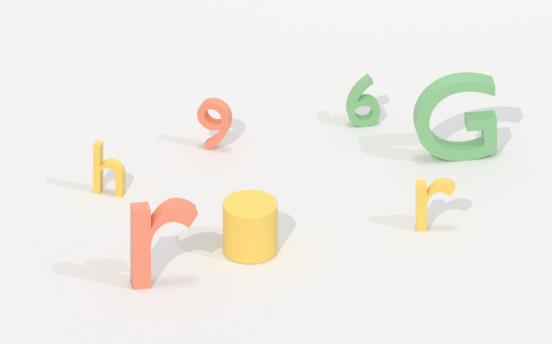6: (343, 73, 386, 130)
9: (194, 96, 236, 153)
G-hoa: (408, 70, 503, 164)
R: (123, 193, 203, 292), (414, 176, 462, 232)
h: (90, 138, 132, 200)
tru: (223, 189, 281, 268)
